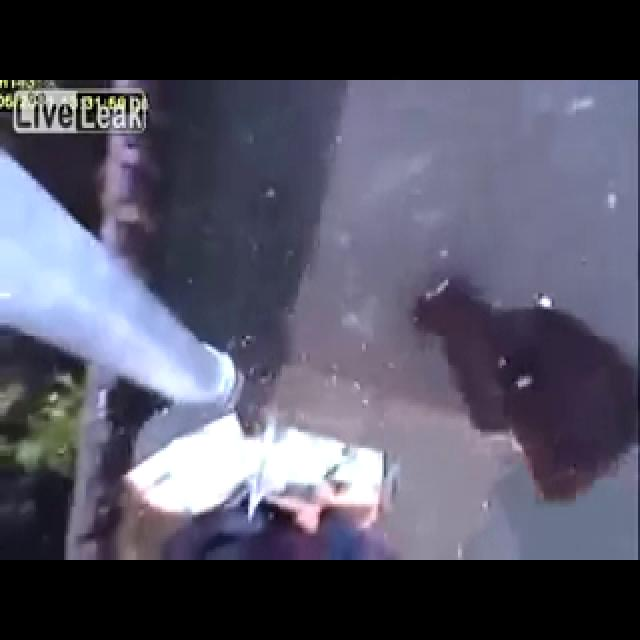vandalism: (106, 351, 597, 563)
